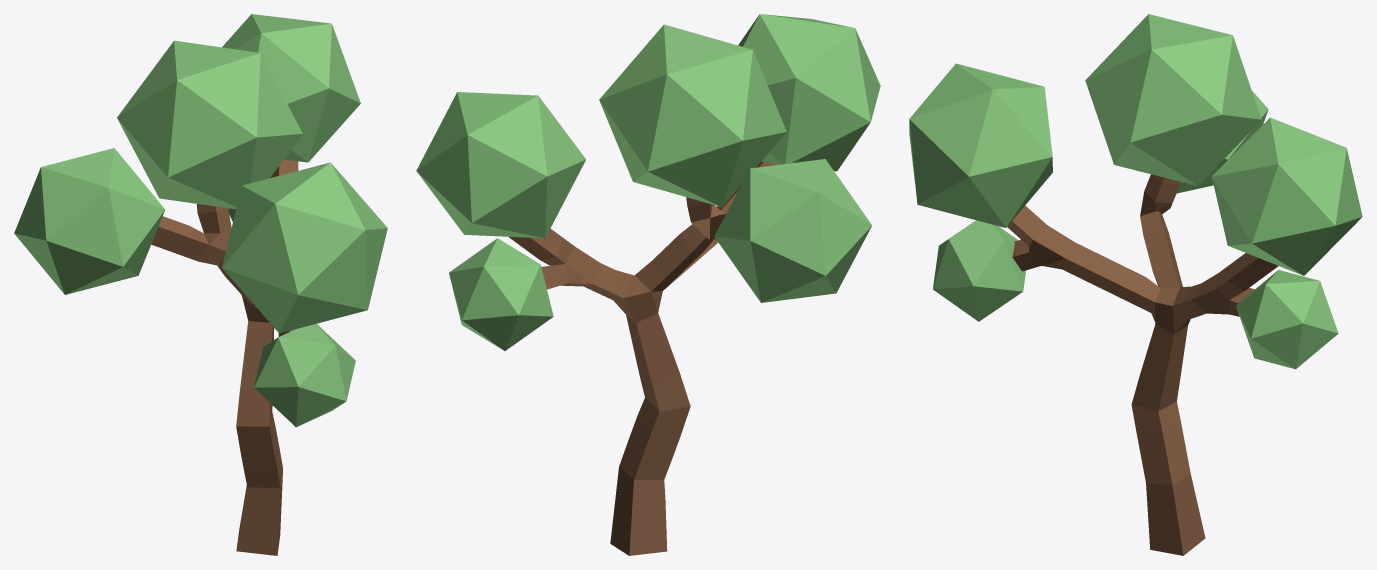
Rendered from tree.fbx.
3 views of the same model, side by side, from view 1: azimuth 30°, elevation 25°; view 2: azimuth 150°, elevation 25°; view 3: azimuth 270°, elevation 25° (orthographic). The views are drawn at different scales.
Parts seen in each view (by area): view 1: Icosphere.004, Icosphere.002, Icosphere.005, Cube, Icosphere, Icosphere.003; view 2: Icosphere.004, Cube, Icosphere, Icosphere.005, Icosphere.002, Icosphere.001; view 3: Cube, Icosphere.004, Icosphere.002, Icosphere, Icosphere.001, Icosphere.003, Icosphere.005.
Boxes of the visible parts, bbox=[...] form: Icosphere.004: bbox=[117, 40, 302, 209]; Icosphere.002: bbox=[222, 162, 387, 333]; Icosphere.005: bbox=[14, 148, 165, 294]; Cube: bbox=[151, 159, 298, 555]; Icosphere: bbox=[222, 14, 360, 162]; Icosphere.003: bbox=[254, 324, 355, 427]; Icosphere.004: bbox=[599, 24, 786, 207]; Cube: bbox=[508, 161, 776, 555]; Icosphere: bbox=[416, 92, 585, 238]; Icosphere.005: bbox=[714, 159, 871, 302]; Icosphere.002: bbox=[738, 14, 880, 171]; Icosphere.001: bbox=[449, 238, 553, 350]; Cube: bbox=[1007, 174, 1278, 555]; Icosphere.004: bbox=[1085, 14, 1261, 185]; Icosphere.002: bbox=[909, 63, 1052, 227]; Icosphere: bbox=[1211, 117, 1362, 275]; Icosphere.001: bbox=[1236, 270, 1338, 369]; Icosphere.003: bbox=[933, 220, 1026, 321]; Icosphere.005: bbox=[1176, 91, 1268, 193].
Bounding box in the file's own units: 927 × 1243 × 1037.
